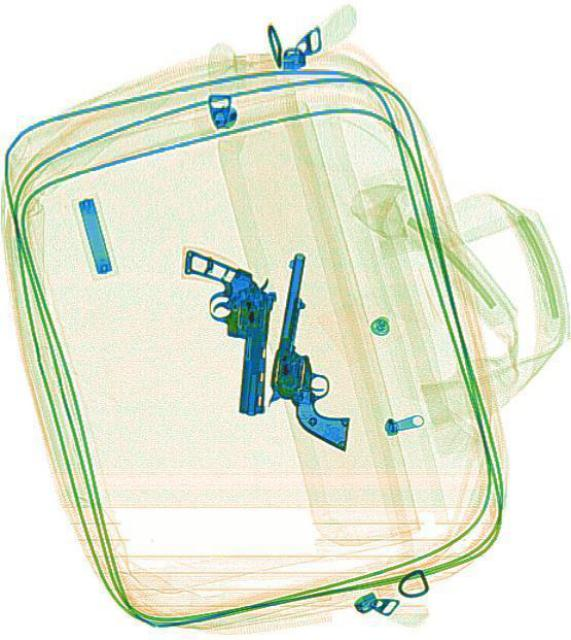Gun: (256, 250, 377, 450), (175, 245, 276, 417)
